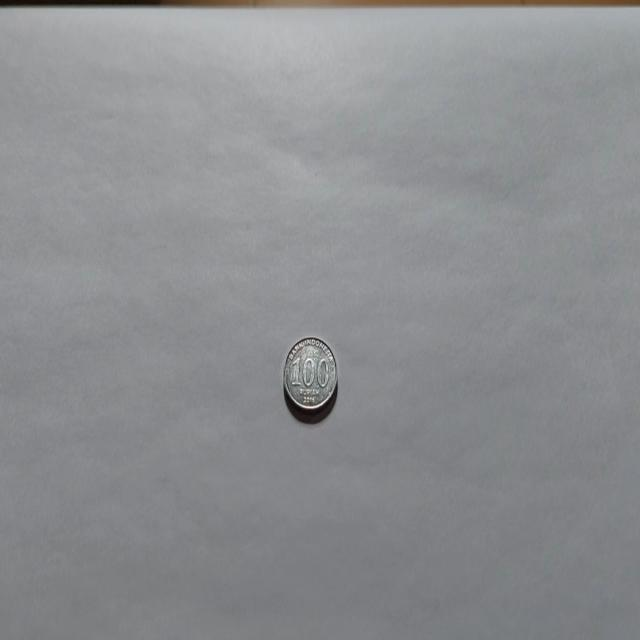seratus rupiah: (282, 334, 338, 416)
